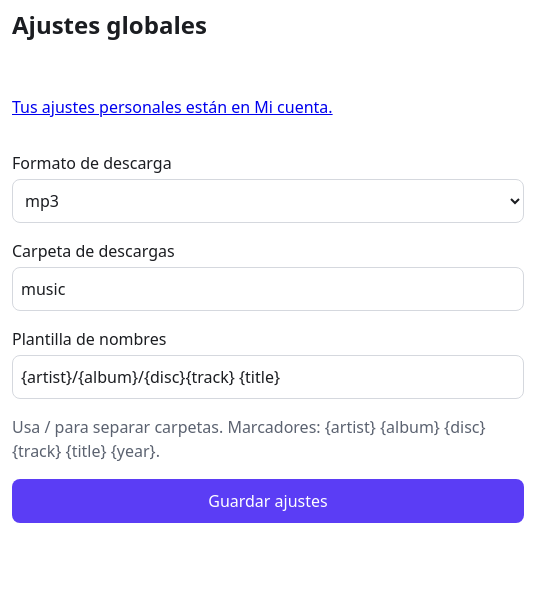
SettingsView › muestra un error general si falla sin errores de campo
Replace the text in the field labelled "Carpeta de descargas" with "musica". click: x=268, y=289
box: x1=12 y1=267 x2=524 y2=311
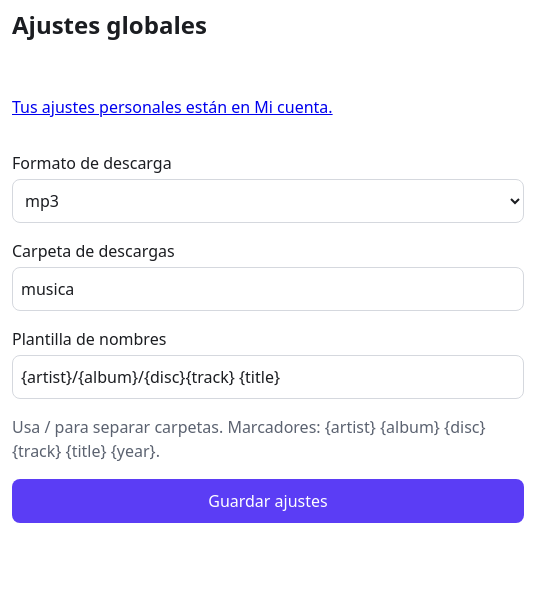
Submit the form, box x1=12 y1=151 x2=524 y2=523
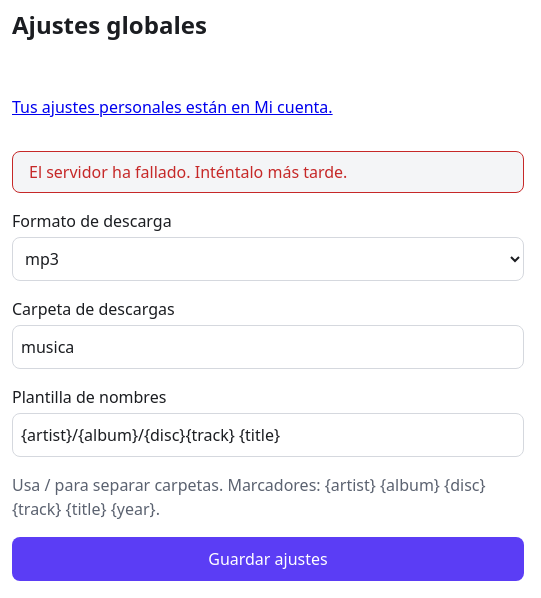
Now the message "El servidor ha fallado. Inténtalo más tarde." is shown, box x1=12 y1=151 x2=524 y2=193
